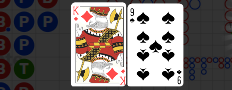9C: (128, 6, 136, 24)
KD: (72, 5, 79, 22)
